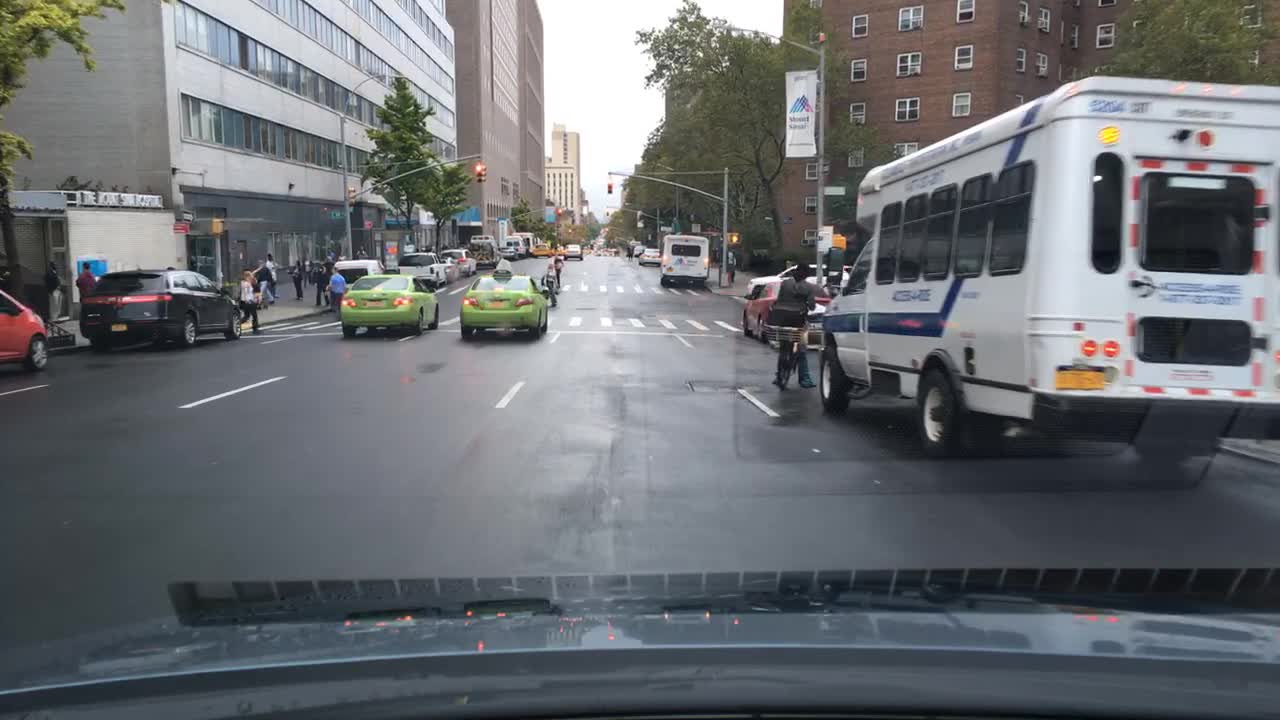car: (76, 266, 248, 352), (336, 255, 443, 338), (457, 256, 552, 342), (740, 275, 836, 346), (0, 286, 55, 378), (742, 261, 856, 302), (398, 250, 452, 290), (328, 257, 384, 292), (442, 247, 483, 277), (437, 252, 464, 285), (492, 245, 522, 262), (560, 242, 585, 261), (638, 246, 661, 266), (626, 242, 648, 259), (534, 242, 560, 256), (554, 245, 566, 257)
person: (766, 261, 831, 393), (237, 267, 265, 335), (39, 260, 67, 325), (252, 257, 277, 307), (327, 265, 348, 318), (72, 257, 97, 296), (262, 250, 282, 297), (289, 256, 306, 302), (312, 260, 327, 311), (721, 250, 736, 286)
traffic light: (829, 236, 846, 249), (474, 162, 482, 184), (729, 232, 741, 244), (558, 206, 564, 219), (606, 182, 613, 192)
traffic sign: (173, 221, 191, 232), (181, 209, 198, 220), (825, 187, 850, 194), (331, 210, 347, 219), (821, 162, 833, 172)
truck: (807, 71, 1279, 471), (655, 231, 711, 288), (465, 232, 508, 271), (503, 234, 529, 257), (512, 231, 537, 254)
